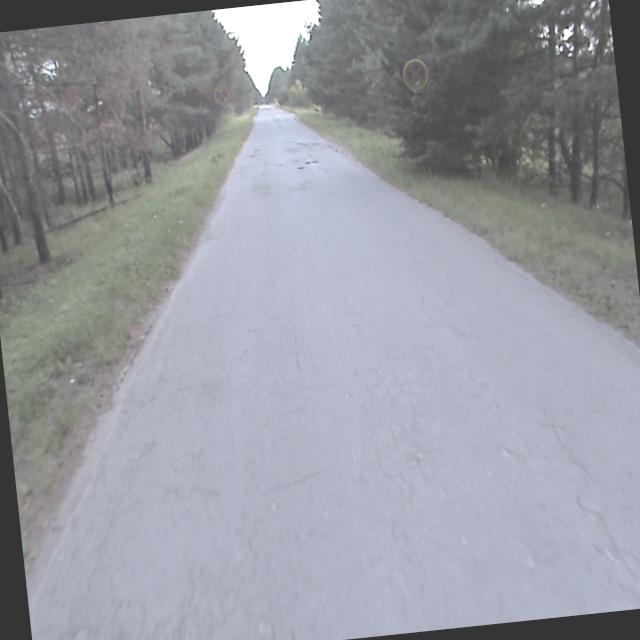road: (27, 104, 640, 640)
